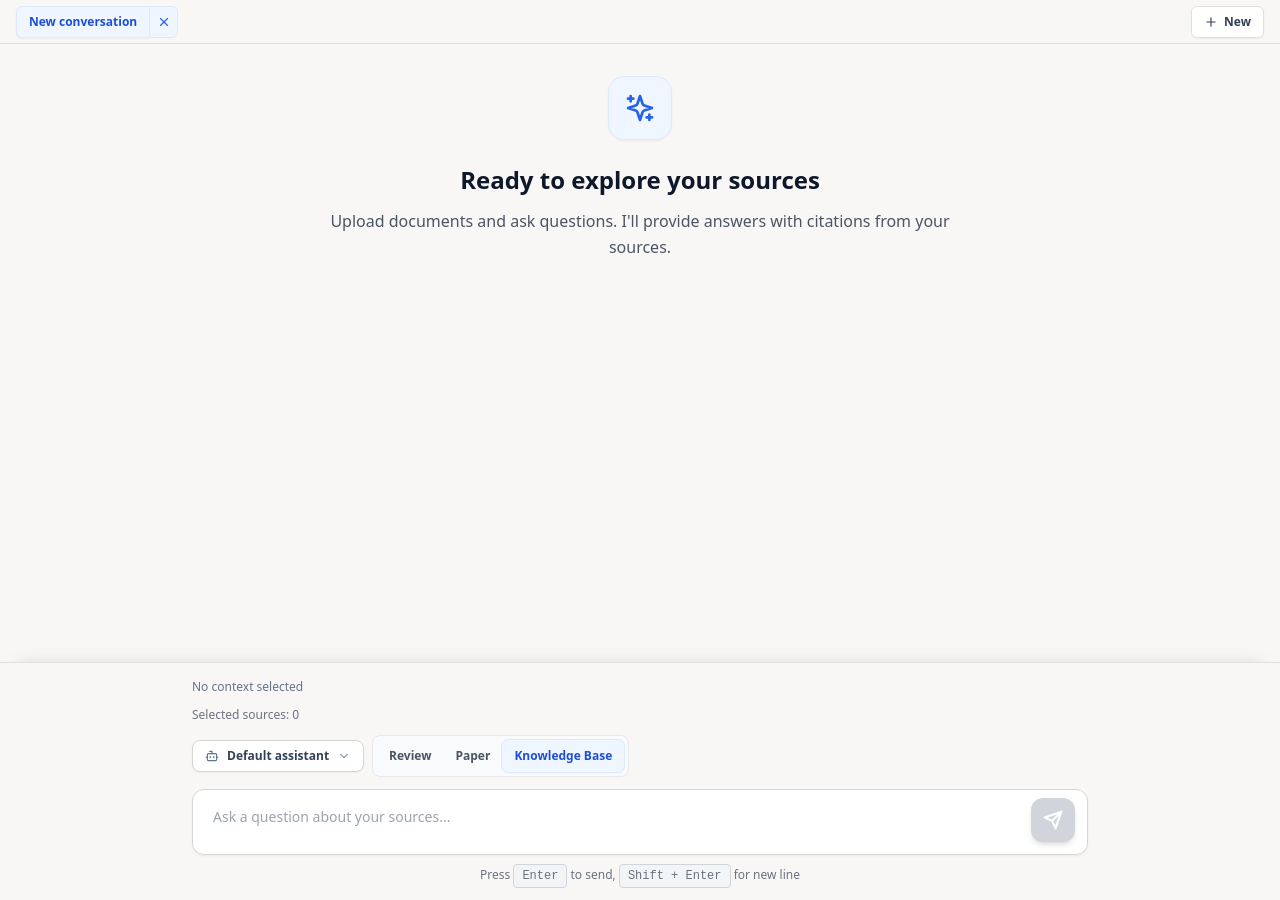
Test: ChatInterface workspace layout › blocks skill command execution without selected sources
This screenshot has width=1280, height=900.
Type "/paper_planner outline chapter 2" into the text box with placeholder "Ask a question about your sources...". click: (640, 818)
box: [193,790,1087,846]
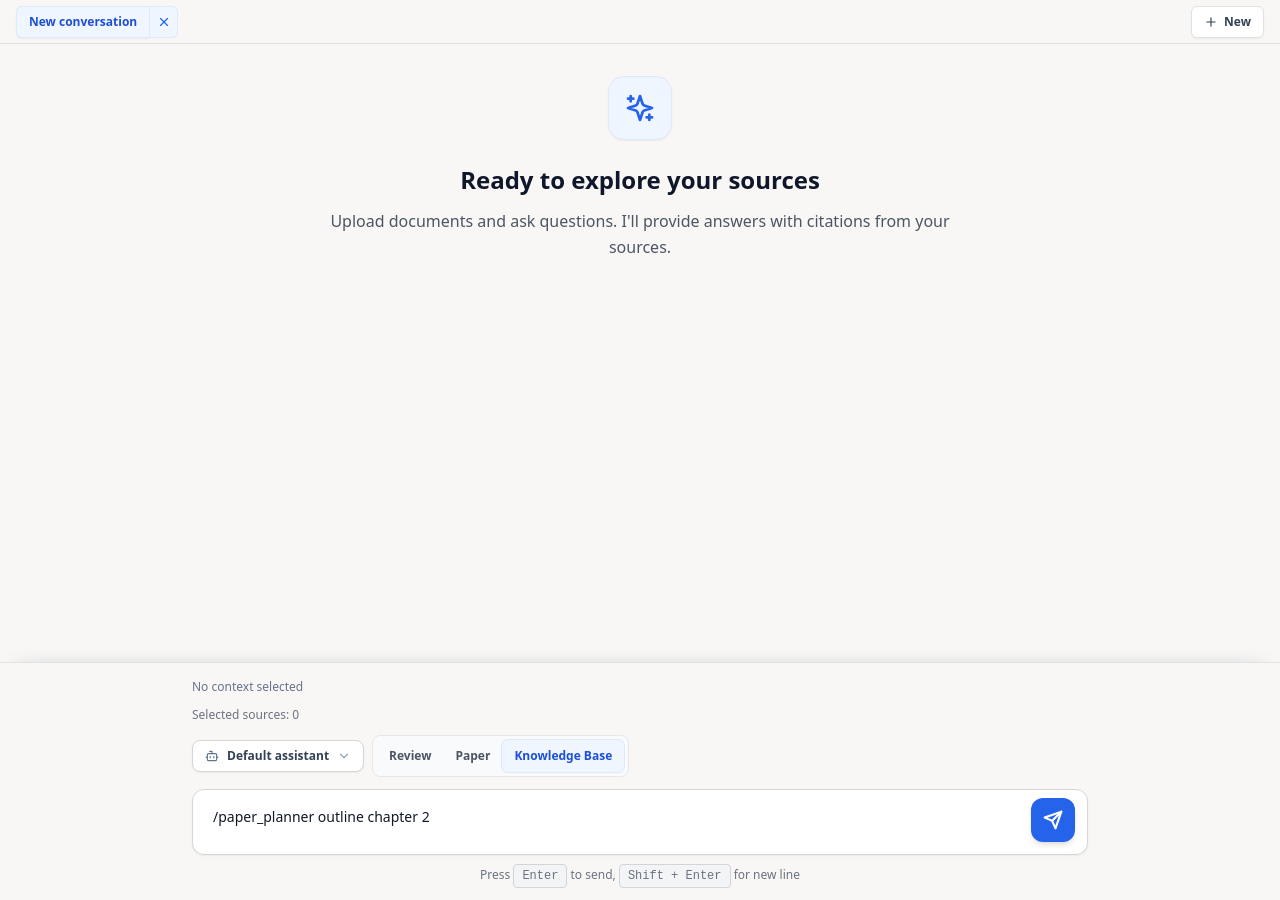
Click the button named "Send message". click: click(1053, 820)
box: [1031,798,1075,842]
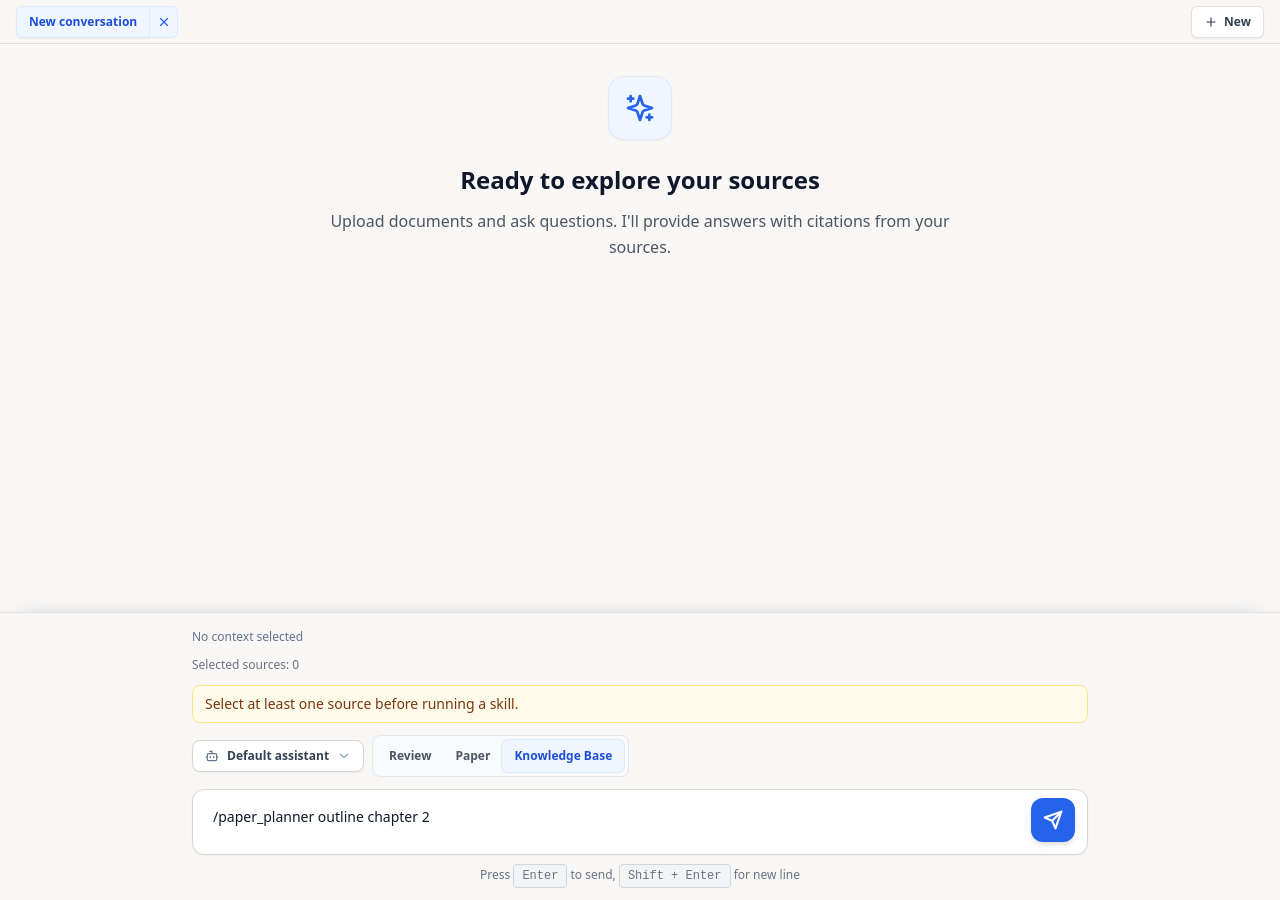
expect the text "Select at least one source before running a skill." is shown: met, box [192,685,1088,723]
